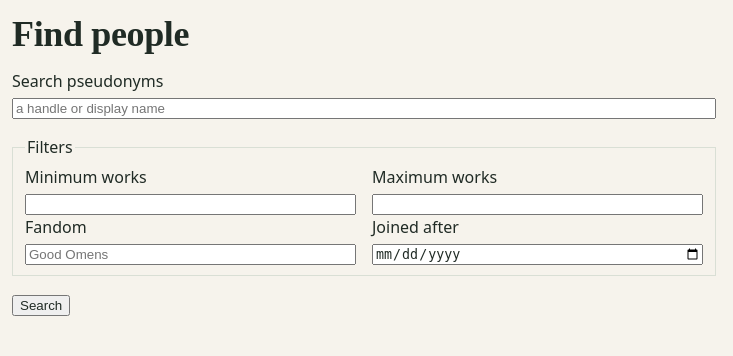
it: UserSearch › says a 422 the way the backend wrote it
Type "owl" into the search field labelled "Search pseudonyms".
click(364, 108); type("owl")  # box [12,98,716,119]
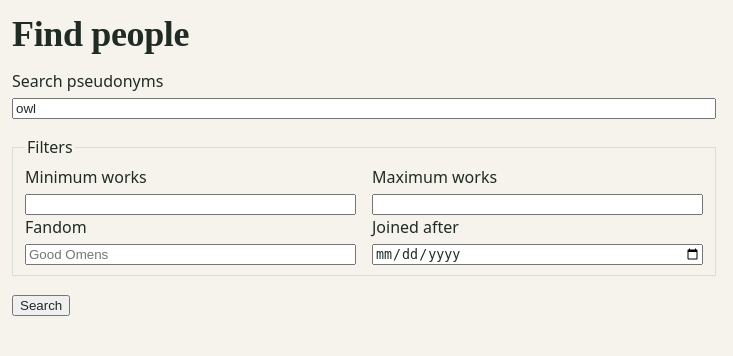
Click the button "Search".
click(41, 306)  # box [12,295,70,316]
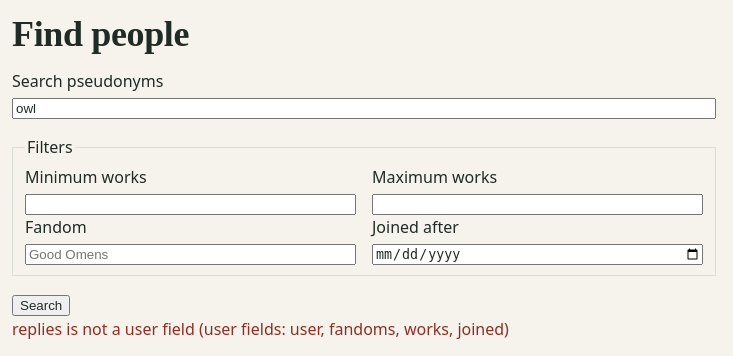
Now the message shows "replies is not a user field", box [12,318,509,340]
